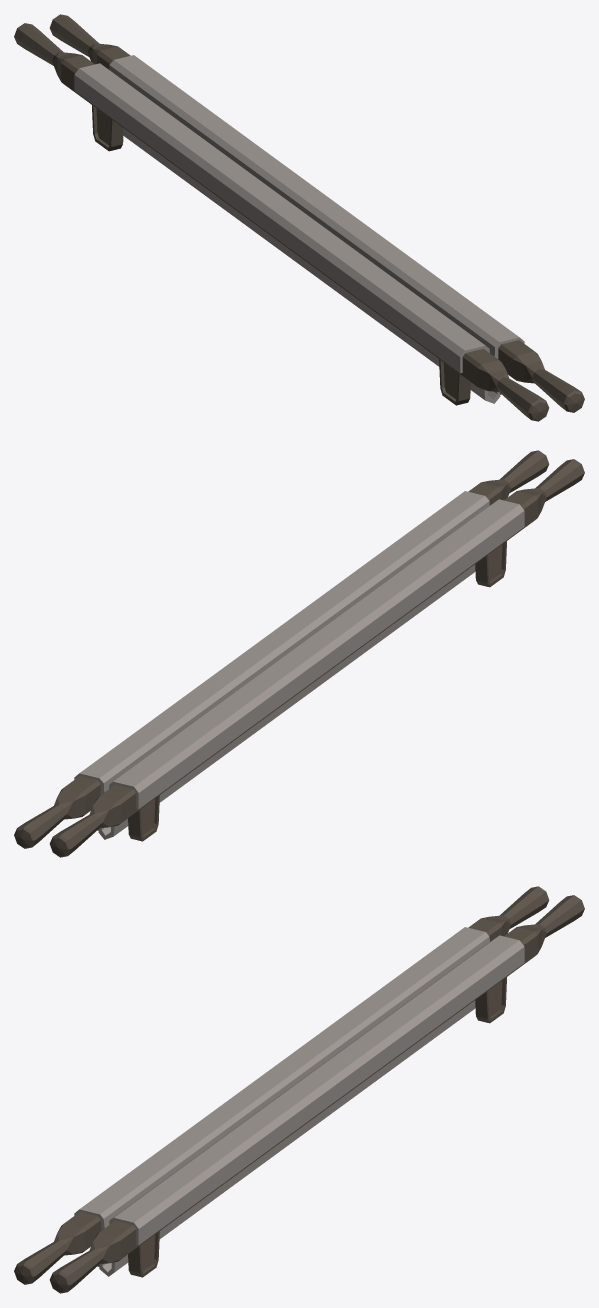
File: Prop_Stretcher_02.fbx
The picture shows the model from 3 angles, top to bottom: view 1: azimuth 30°, elevation 25°; view 2: azimuth 150°, elevation 25°; view 3: azimuth 330°, elevation 25°; orthographic projection.
Visible parts, largest first — view 1: Prop_Stretcher_02_LOD0; view 2: Prop_Stretcher_02_LOD0; view 3: Prop_Stretcher_02_LOD0.
Boxes of the visible parts, x1,y1,x2,y2 form: Prop_Stretcher_02_LOD0: [14, 14, 584, 421]; Prop_Stretcher_02_LOD0: [14, 450, 584, 857]; Prop_Stretcher_02_LOD0: [14, 886, 584, 1293].
Size of what is drawn, in the model's own units: 17.32 by 16.7 by 242.
